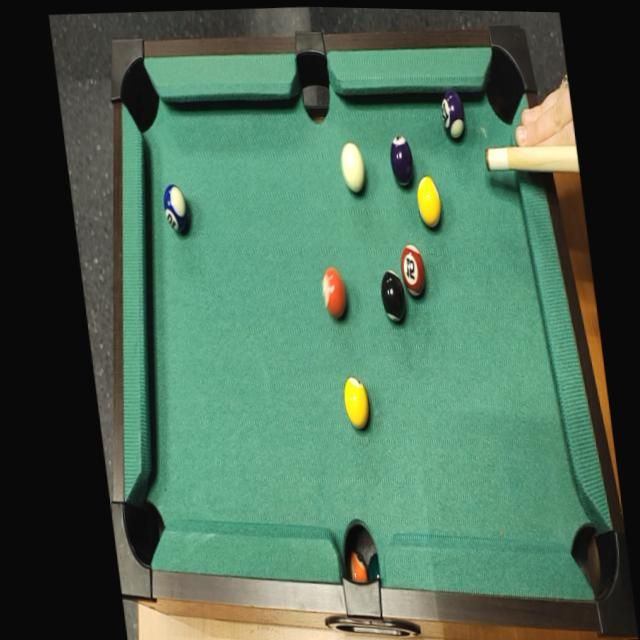cue ball: (336, 138, 371, 200)
other: (384, 131, 418, 196), (436, 85, 471, 148), (410, 171, 446, 232), (375, 268, 410, 330), (339, 373, 373, 434), (397, 240, 429, 302), (319, 265, 351, 327), (161, 182, 191, 235)
